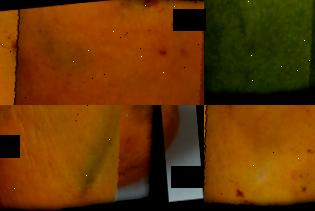Ripe: (0, 0, 204, 105), (0, 105, 161, 211), (204, 105, 315, 211)
Unripe: (204, 0, 315, 105)
